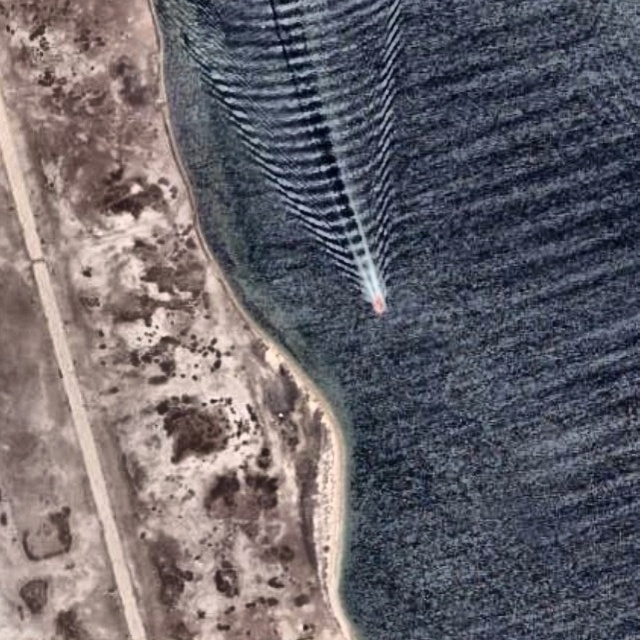wake: (213, 13, 450, 345)
